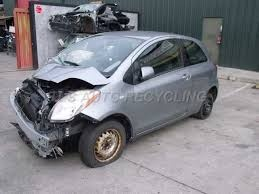Smashed: (10, 60, 95, 156)
